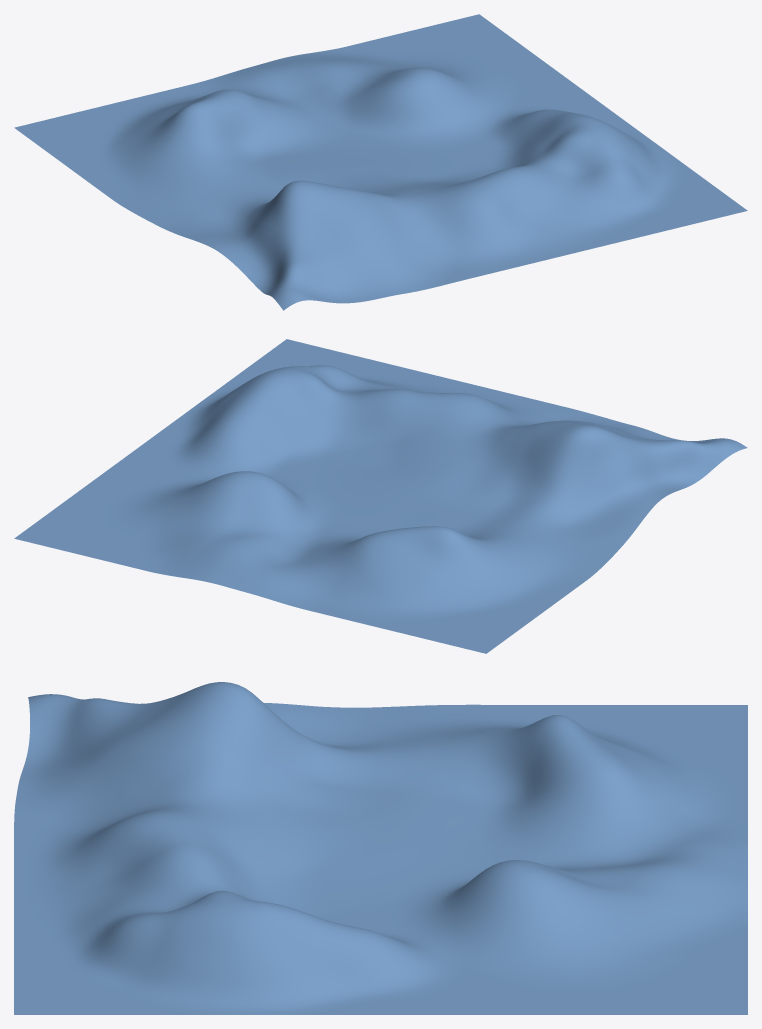
Rendered from Grass.glb.
3 views of the same model, one above another, from view 1: azimuth 30°, elevation 25°; view 2: azimuth 150°, elevation 25°; view 3: azimuth 270°, elevation 25° (orthographic). The views are drawn at different scales.
Visible parts, largest first — view 1: Grid; view 2: Grid; view 3: Grid.
Part boxes in pixels (x1=…): Grid: x1=14, y1=14, x2=747, y2=310; Grid: x1=14, y1=339, x2=747, y2=653; Grid: x1=14, y1=682, x2=747, y2=1014.
Size of the model in its own units: 430 by 54.66 by 430.
